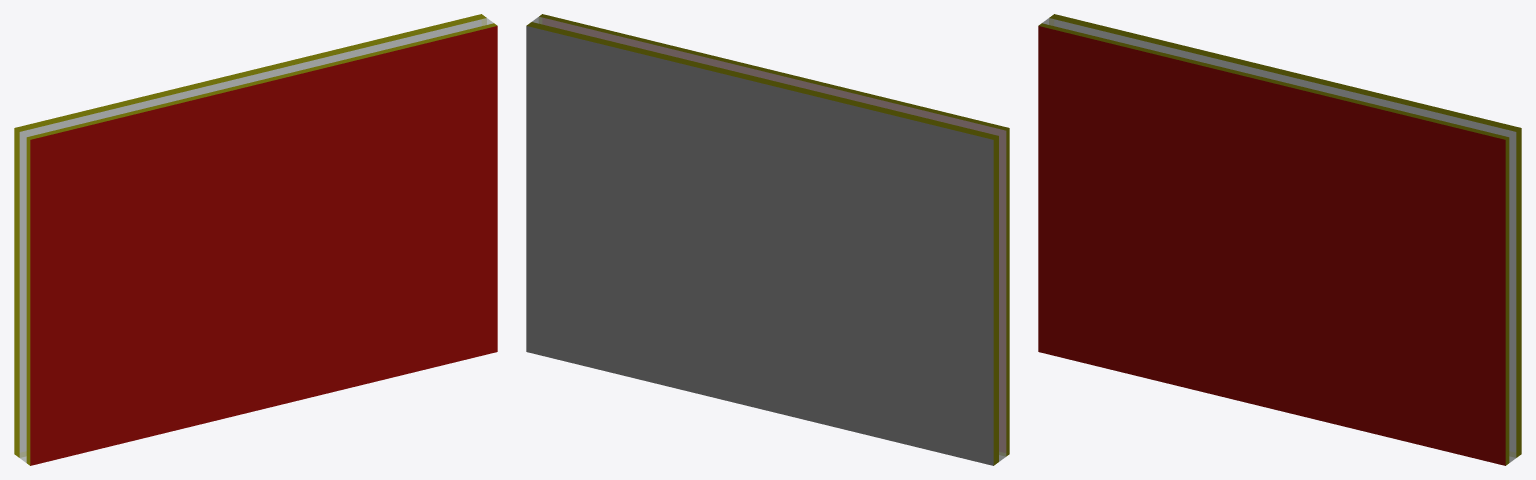
Rendered from idf.obj.
3 views of the same model, side by side, from view 1: azimuth 30°, elevation 25°; view 2: azimuth 150°, elevation 25°; view 3: azimuth 330°, elevation 25° (orthographic).
Bounding box in the file's own units: 45.72 × 30.48 × 2.74.
